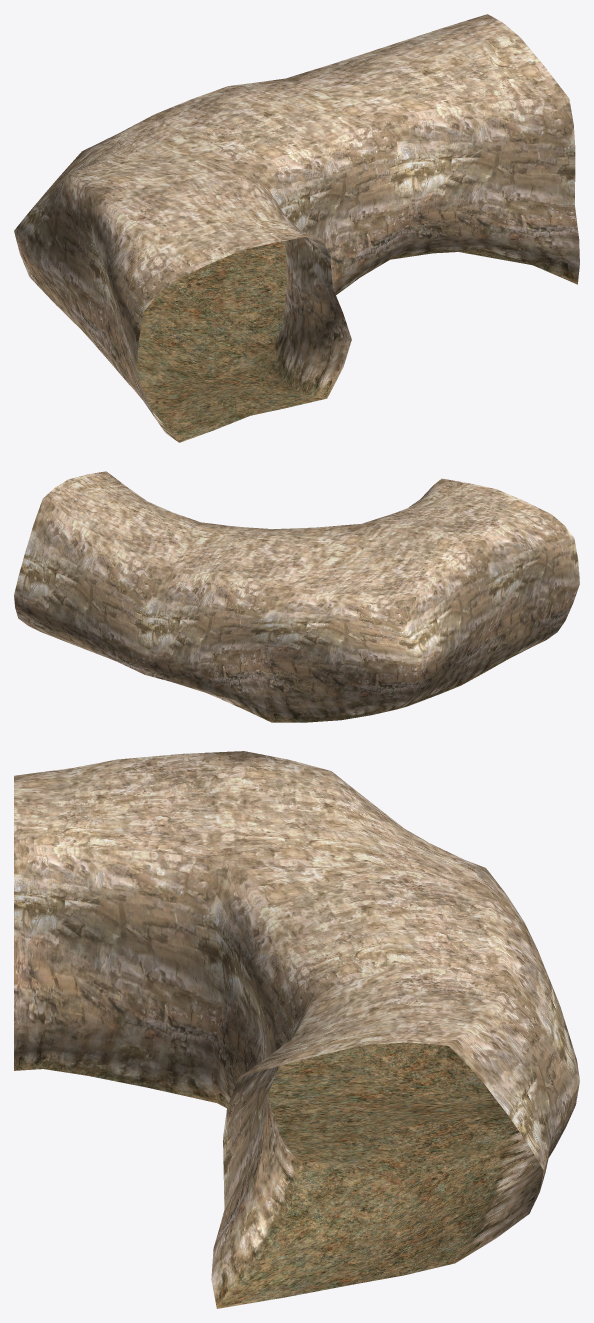
The model's file is thm_all_cave_s02_mirror_r7_mesh_r7.fbx.
3 views of the same model, one above another, from view 1: azimuth 30°, elevation 25°; view 2: azimuth 150°, elevation 25°; view 3: azimuth 270°, elevation 25° (orthographic). The views are drawn at different scales.
Visible parts, largest first — view 1: mesh_node; view 2: mesh_node; view 3: mesh_node.
Part boxes in pixels (x1,y1,x2,y2): mesh_node: (14,14,579,442); mesh_node: (14,471,579,722); mesh_node: (14,751,579,1308).
Size of the model in its own units: 30.85 by 11.75 by 22.62.
